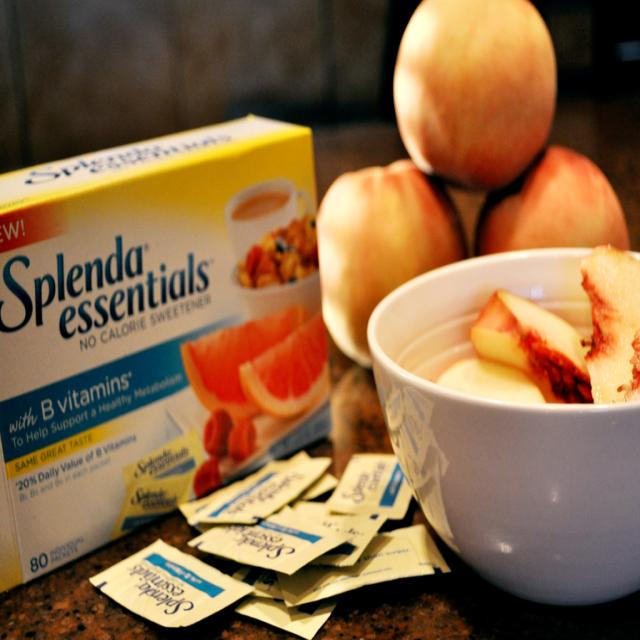Peach: (393, 0, 557, 196), (316, 160, 468, 370), (473, 143, 630, 250), (469, 286, 592, 403), (580, 244, 640, 404), (436, 355, 544, 404)
